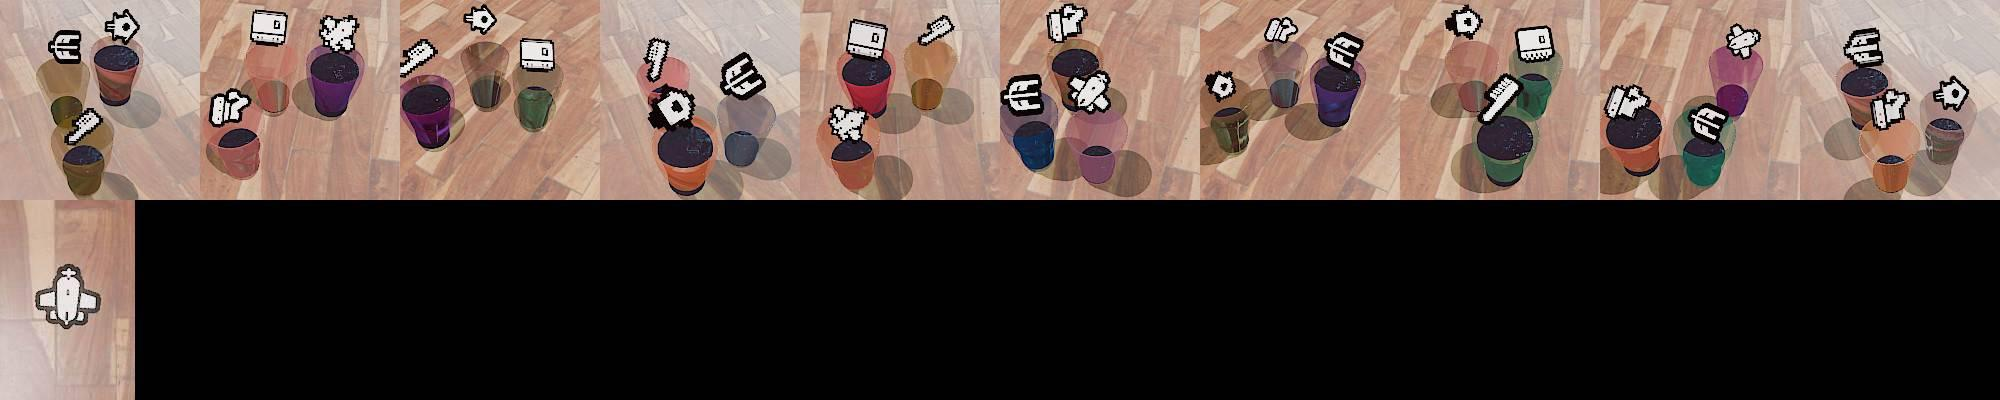icon: (34, 263, 102, 328), (648, 82, 699, 132), (719, 50, 766, 100), (1478, 73, 1522, 125), (1064, 69, 1111, 115), (1001, 73, 1044, 116), (845, 18, 888, 61), (1687, 101, 1731, 143), (1871, 88, 1911, 131), (827, 102, 870, 142), (1046, 2, 1087, 43), (1515, 25, 1556, 64), (1843, 27, 1884, 66), (1322, 30, 1363, 69), (209, 87, 251, 125), (319, 14, 359, 53), (63, 107, 103, 145), (249, 9, 288, 47), (104, 8, 141, 46), (1932, 75, 1969, 113), (400, 39, 437, 77), (1725, 23, 1762, 60), (1445, 4, 1483, 40), (47, 30, 83, 65), (643, 37, 671, 82), (519, 37, 555, 72), (918, 14, 956, 47), (463, 3, 497, 36), (1604, 85, 1635, 119), (1263, 16, 1298, 46), (1205, 70, 1237, 102)
